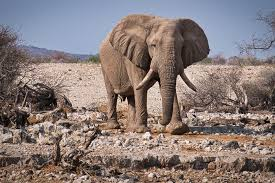Elephant: (98, 14, 216, 129)
